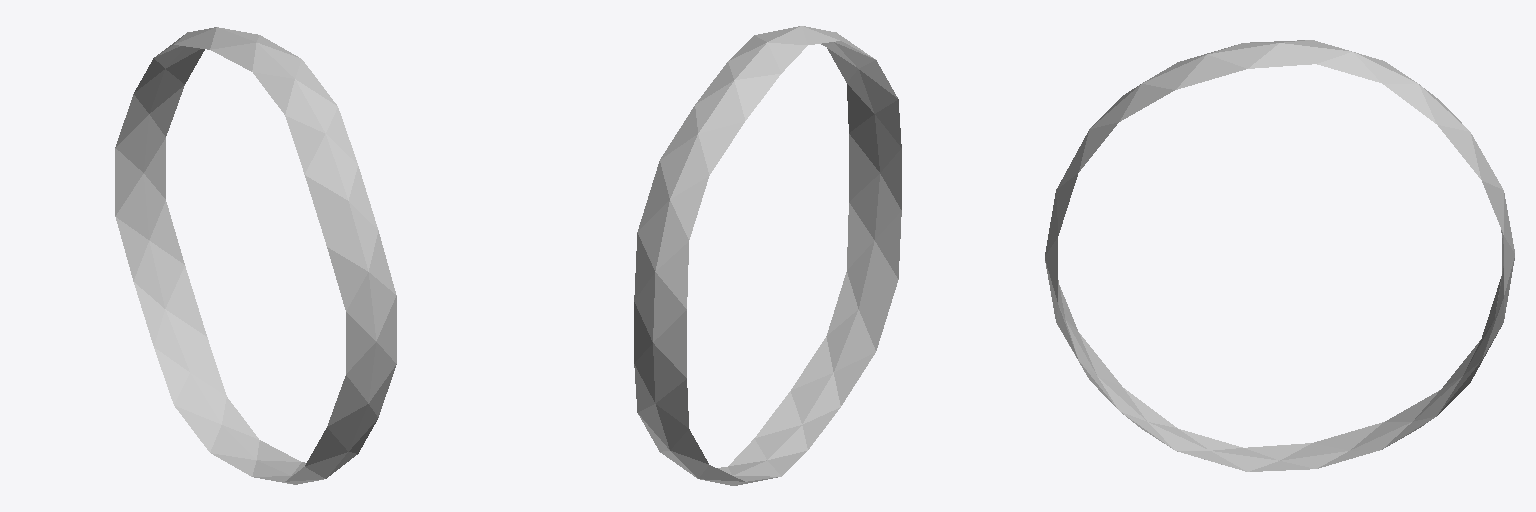
File: Outer.obj
The picture shows the model from 3 angles: view 1: azimuth 30°, elevation 25°; view 2: azimuth 150°, elevation 25°; view 3: azimuth 270°, elevation 25°; orthographic projection.
Parts seen in each view (by area): view 1: Outer_step-one.001; view 2: Outer_step-one.001; view 3: Outer_step-one.001.
Part boxes in pixels (bbox=[...]): Outer_step-one.001: bbox=[115, 27, 396, 484]; Outer_step-one.001: bbox=[634, 26, 901, 485]; Outer_step-one.001: bbox=[1045, 40, 1514, 471].
Size of the model in its own units: 0.8887 by 6.07 by 6.07.